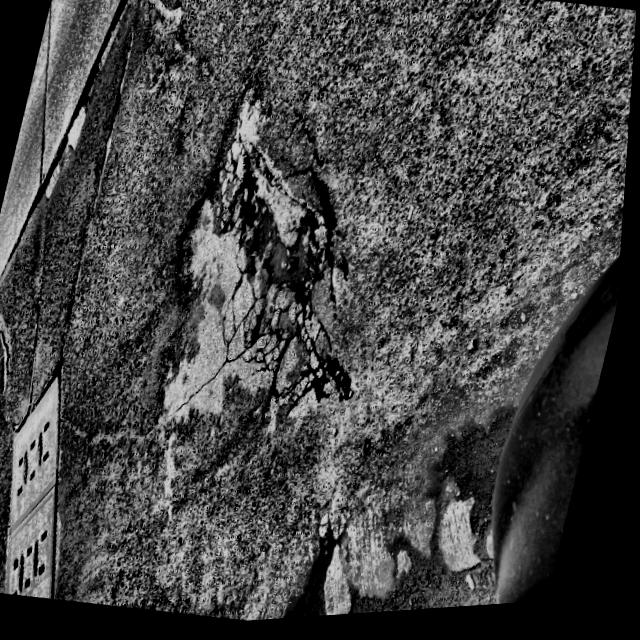pothole: (165, 99, 350, 412)
